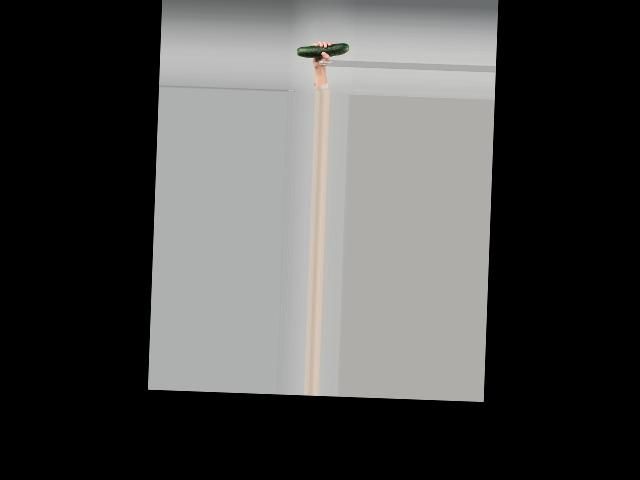cucumber: (297, 41, 349, 59)
